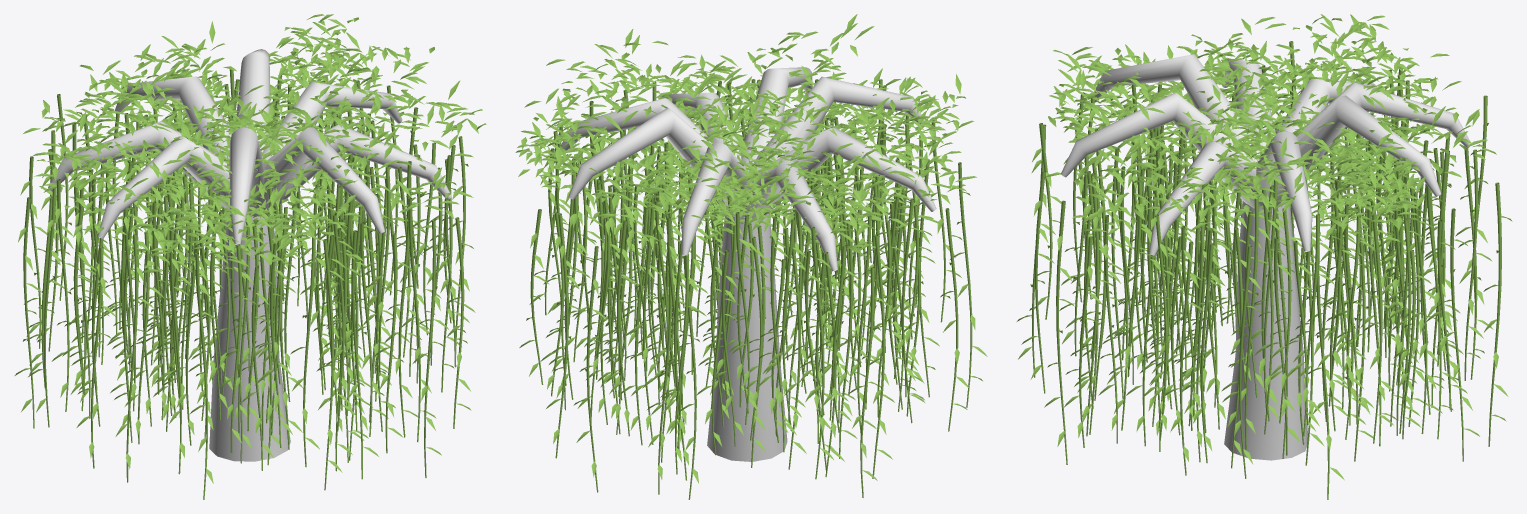
The model's file is 06_Salkimsogut.fbx.
3 renders of one model, left to right at view 1: azimuth 30°, elevation 25°; view 2: azimuth 150°, elevation 25°; view 3: azimuth 270°, elevation 25°, orthographic. The views are drawn at different scales.
Parts seen in each view (by area): view 1: 06_Salkimsogut; view 2: 06_Salkimsogut; view 3: 06_Salkimsogut.
Part boxes in pixels (x1=…): 06_Salkimsogut: x1=14, y1=14, x2=486, y2=499; 06_Salkimsogut: x1=515, y1=14, x2=987, y2=499; 06_Salkimsogut: x1=1017, y1=14, x2=1512, y2=499.
Bounding box in the file's own units: 583 × 512 × 607.
